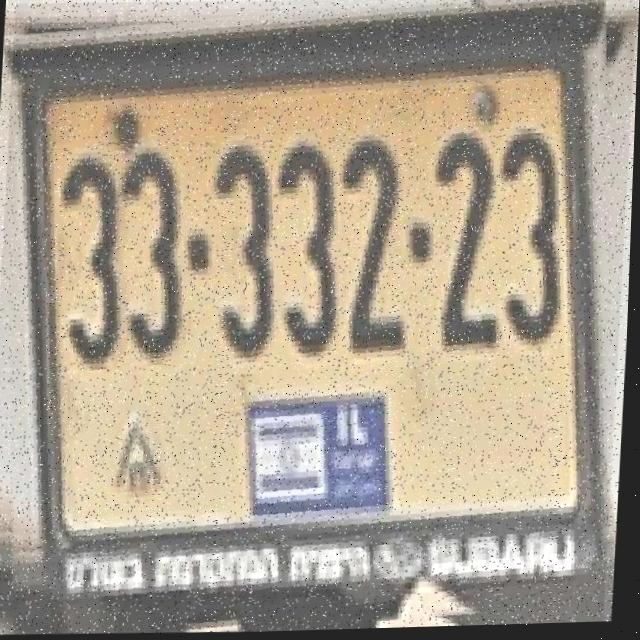LicensePlate: (0, 0, 637, 640)
